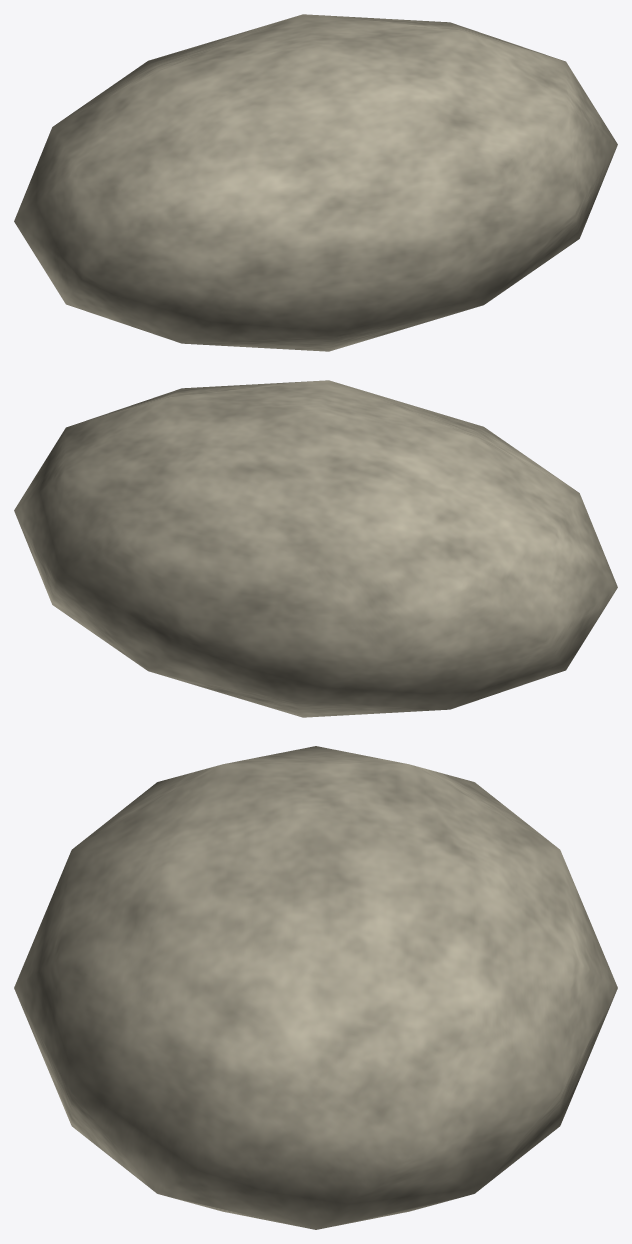
Rendered from pebble.glb.
The picture shows the model from 3 angles, top to bottom: view 1: azimuth 30°, elevation 25°; view 2: azimuth 150°, elevation 25°; view 3: azimuth 270°, elevation 25°; orthographic projection. The views are drawn at different scales.
Visible parts, largest first — view 1: pebble_textured_mesh; view 2: pebble_textured_mesh; view 3: pebble_textured_mesh.
Part boxes in pixels (<box>): pebble_textured_mesh: <box>14,14,617,351</box>; pebble_textured_mesh: <box>14,380,617,717</box>; pebble_textured_mesh: <box>14,746,617,1229</box>.
Bounding box in the file's own units: 1.24 × 0.6 × 0.94.
1 material, 1 textured.
